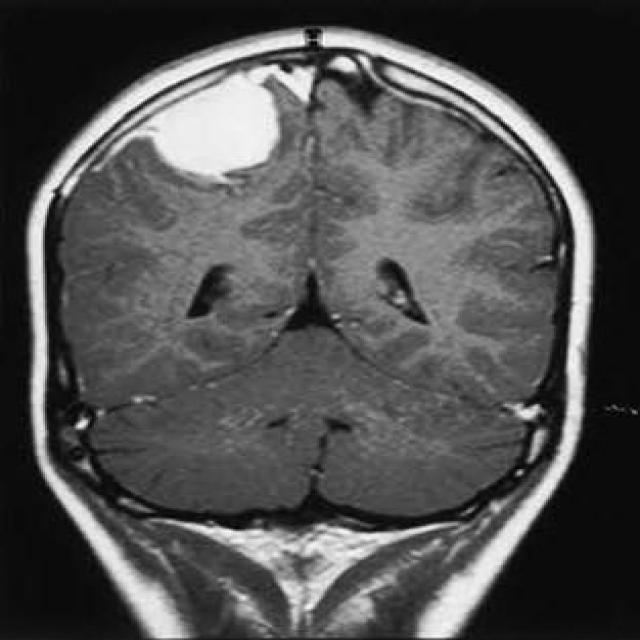Tumor: (141, 57, 282, 189)
